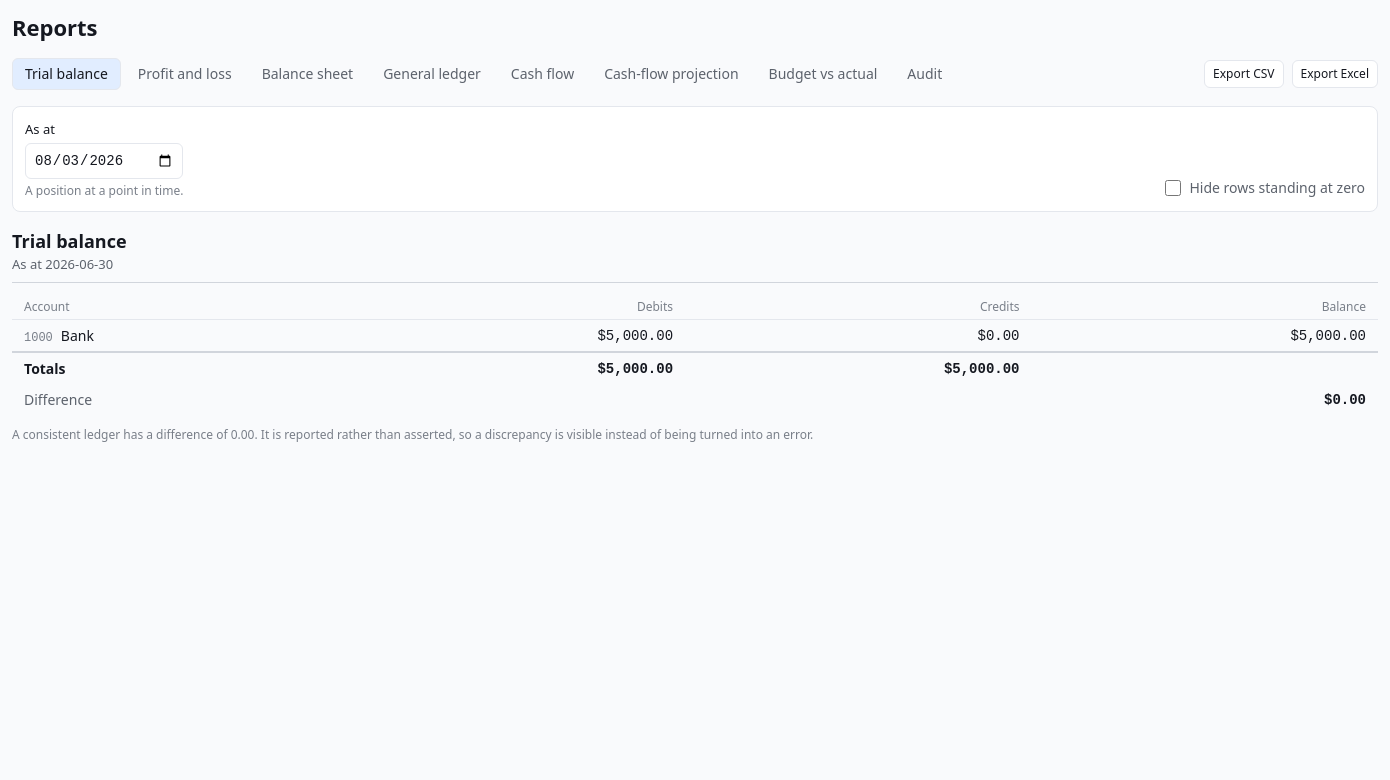
Test case: ReportsScreen › opens on the trial balance and reaches the other three
Check: the table named "Trial balance" is shown, box [12, 295, 1378, 415]
Click the button "Profit and loss": point(185, 74) [125, 58, 245, 90]
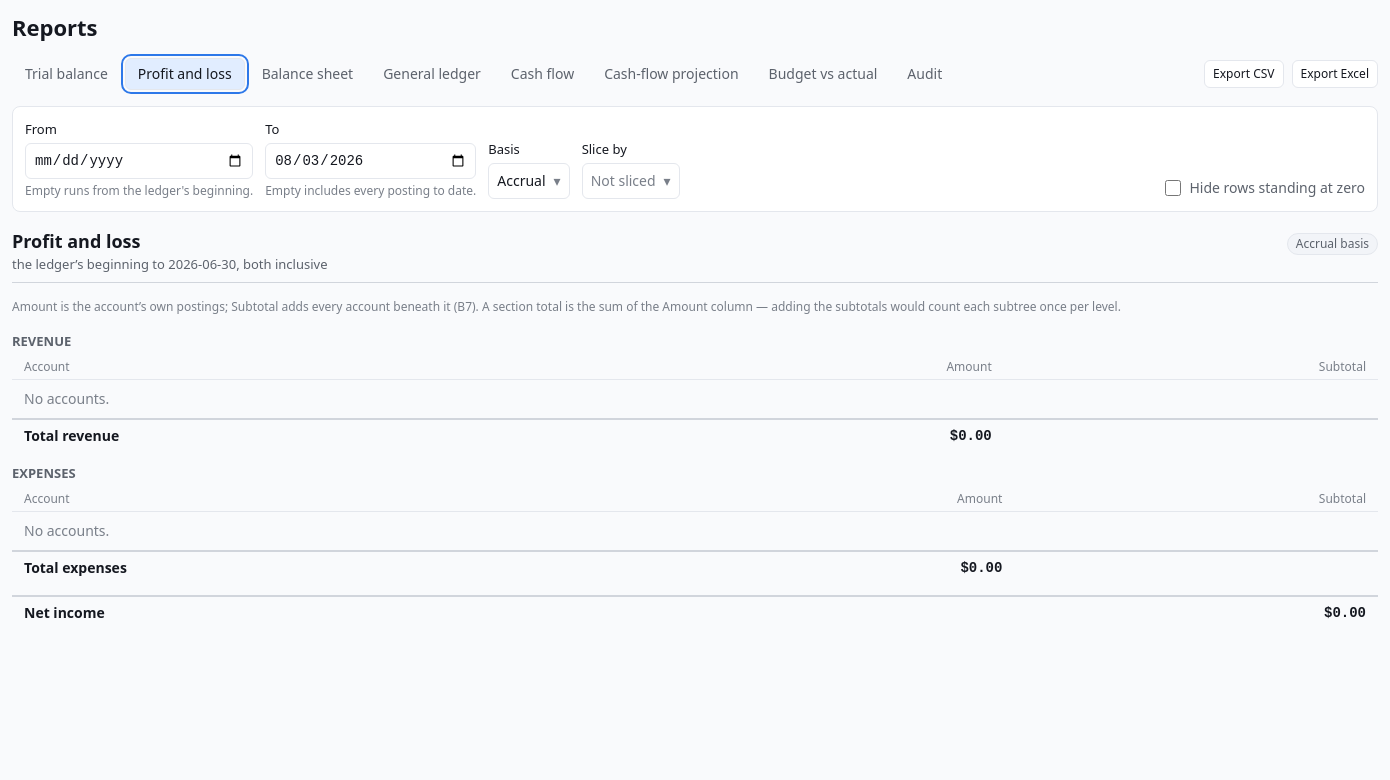
Check: the heading "Profit and loss" is shown, box [12, 229, 140, 253]
Click the button "General ledger": point(432, 74) [370, 58, 494, 90]
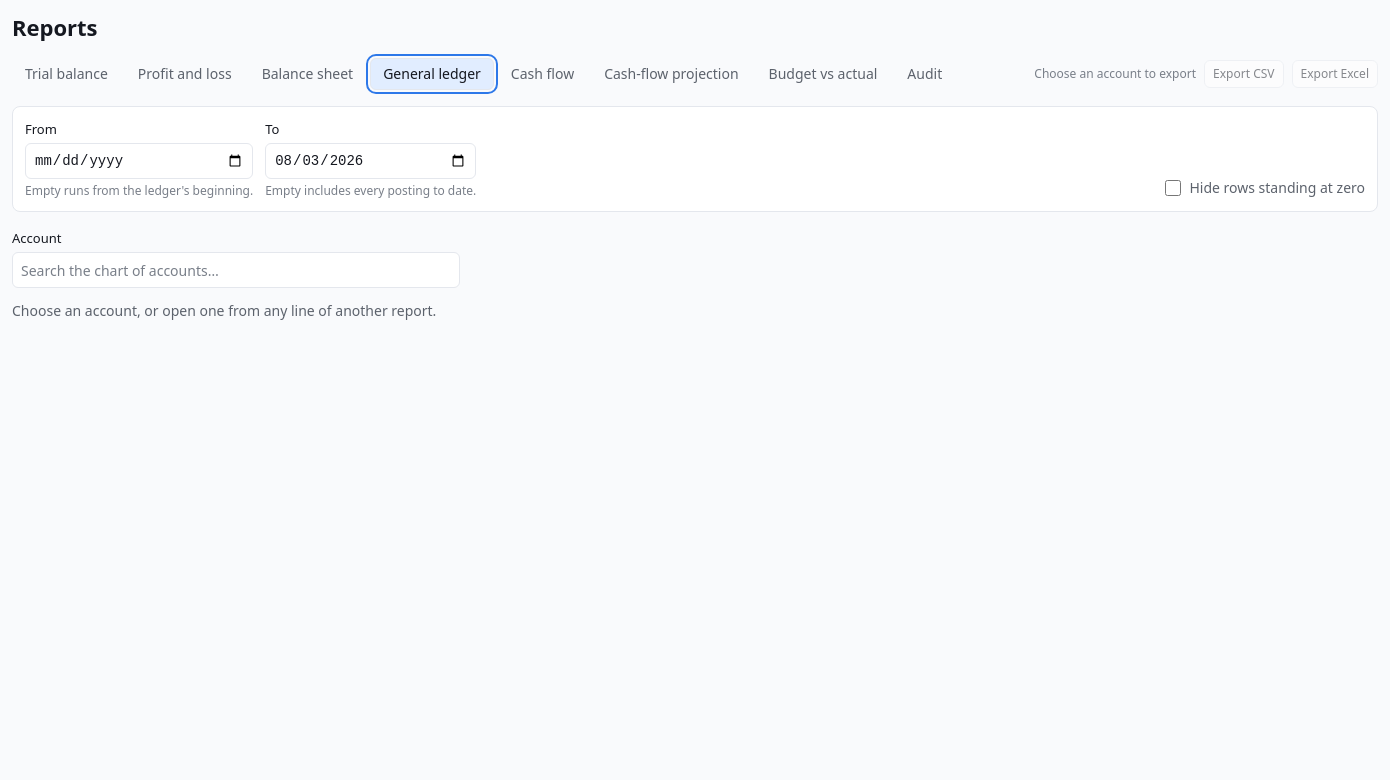
Check: the text "Choose an account, or open one from any line" is shown, box [12, 301, 436, 320]
